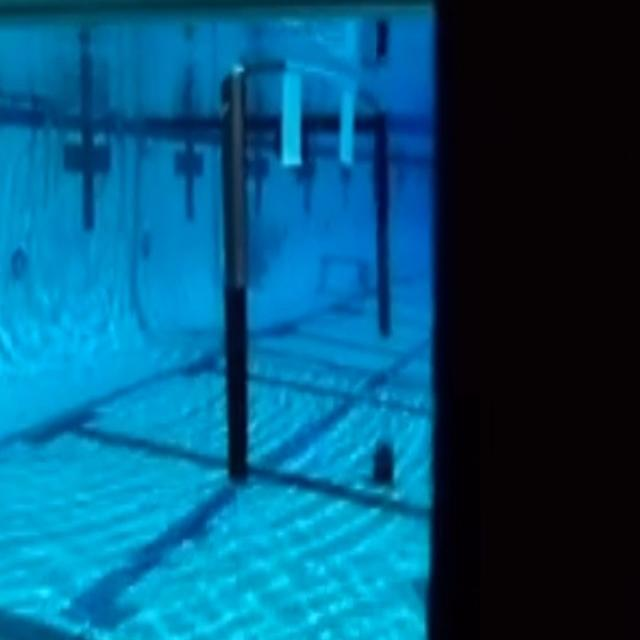Gate: (201, 48, 413, 519)
